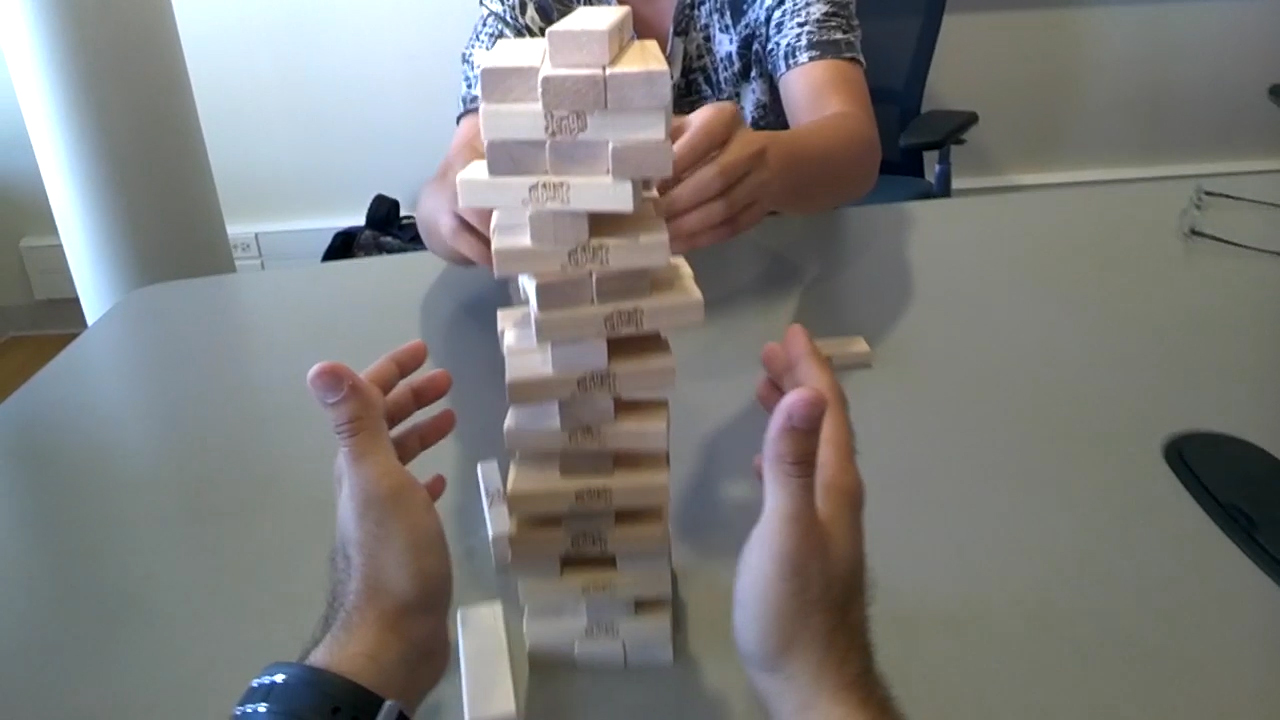hand: (311, 343, 455, 660), (736, 321, 860, 673), (665, 100, 768, 244), (430, 146, 490, 266)
